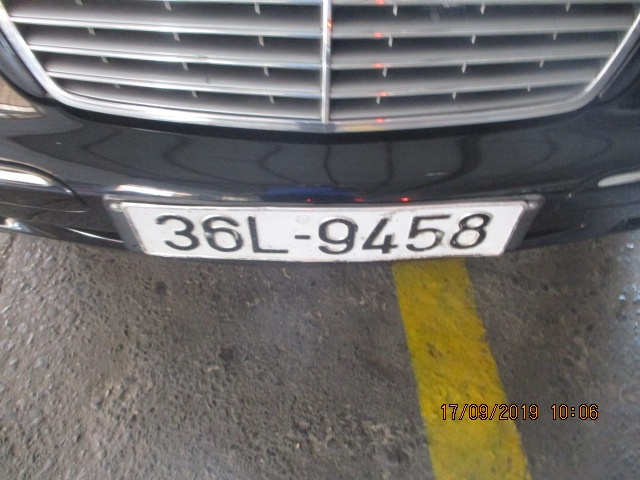number_plate: (144, 206, 499, 258)
